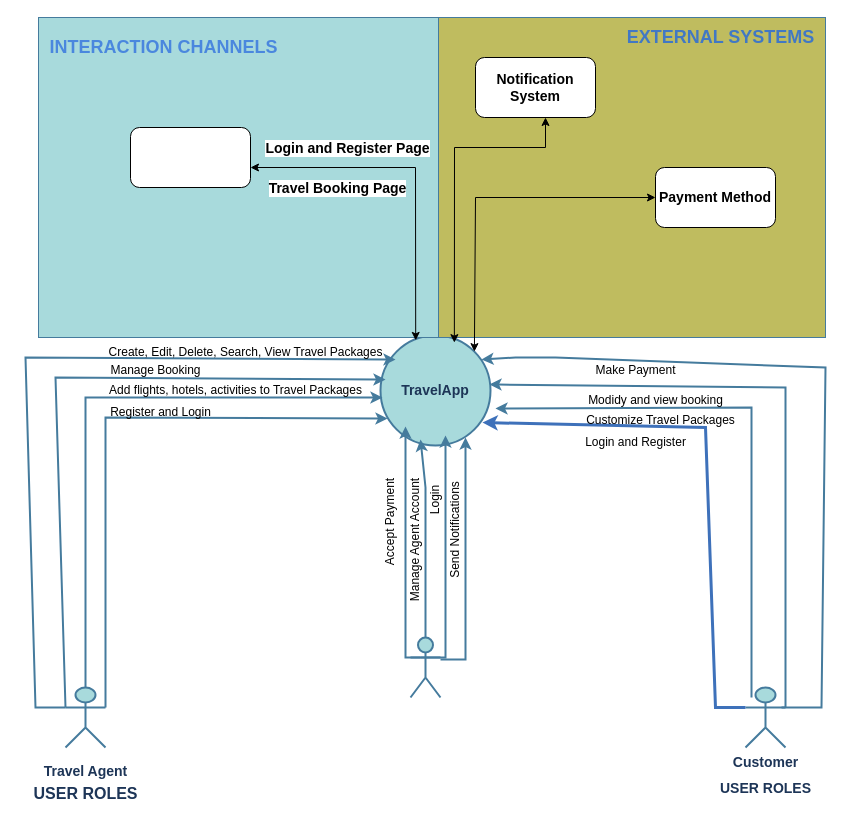
Image size: 851x830. Some labels were removed from this diagram. The shapes that lost their labels are listed below. From the top down, each one's centre as x and y in pixels, then its label:
point 190,157: Browser
point 425,667: Admin
